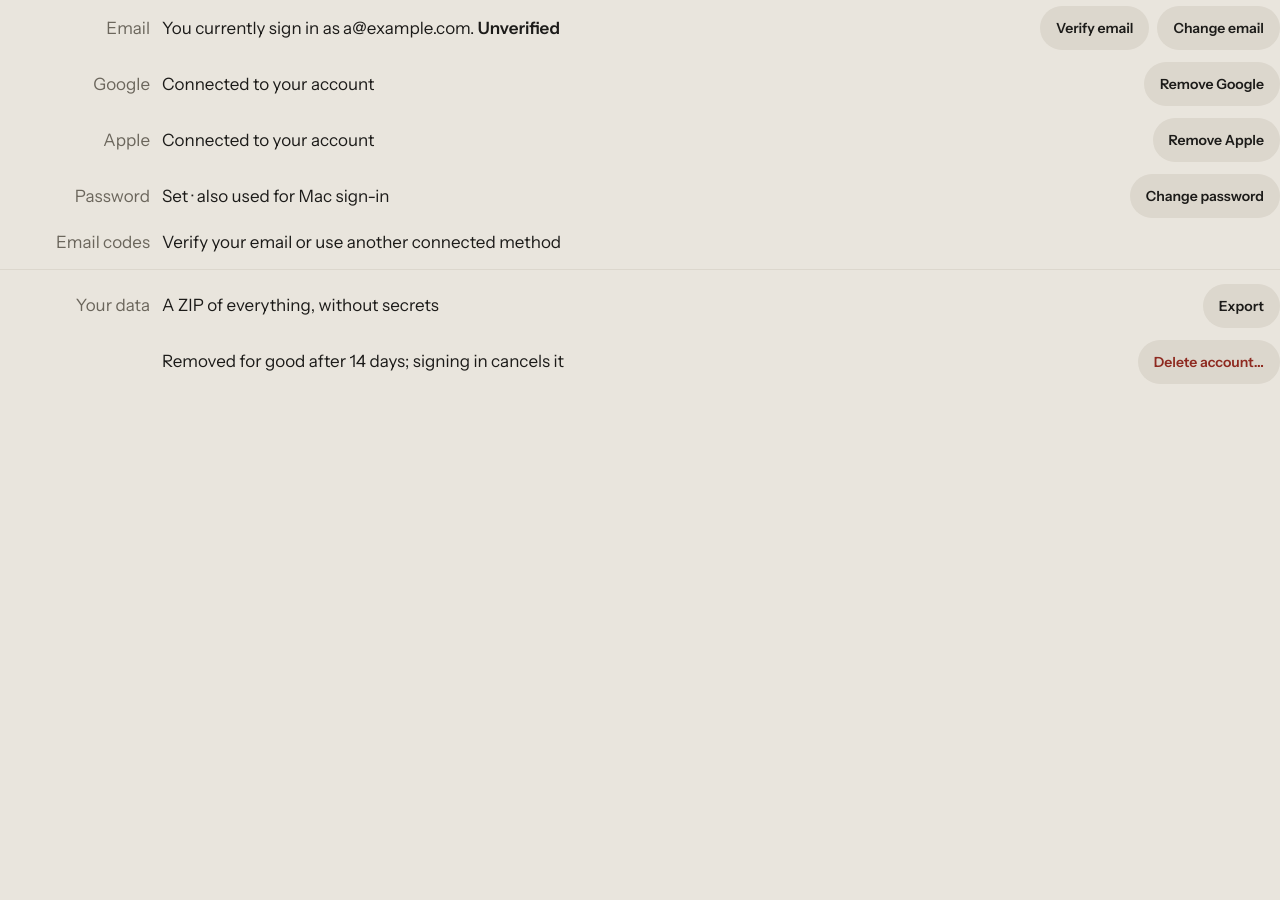
023-FR-006/008/009/011/013/015/016/021 remaining auth failure and recovery journeys › verification can renew recent proof without issuing a second mailbox challenge
Click the button "Verify email": (1095, 28) [1040, 6, 1149, 50]
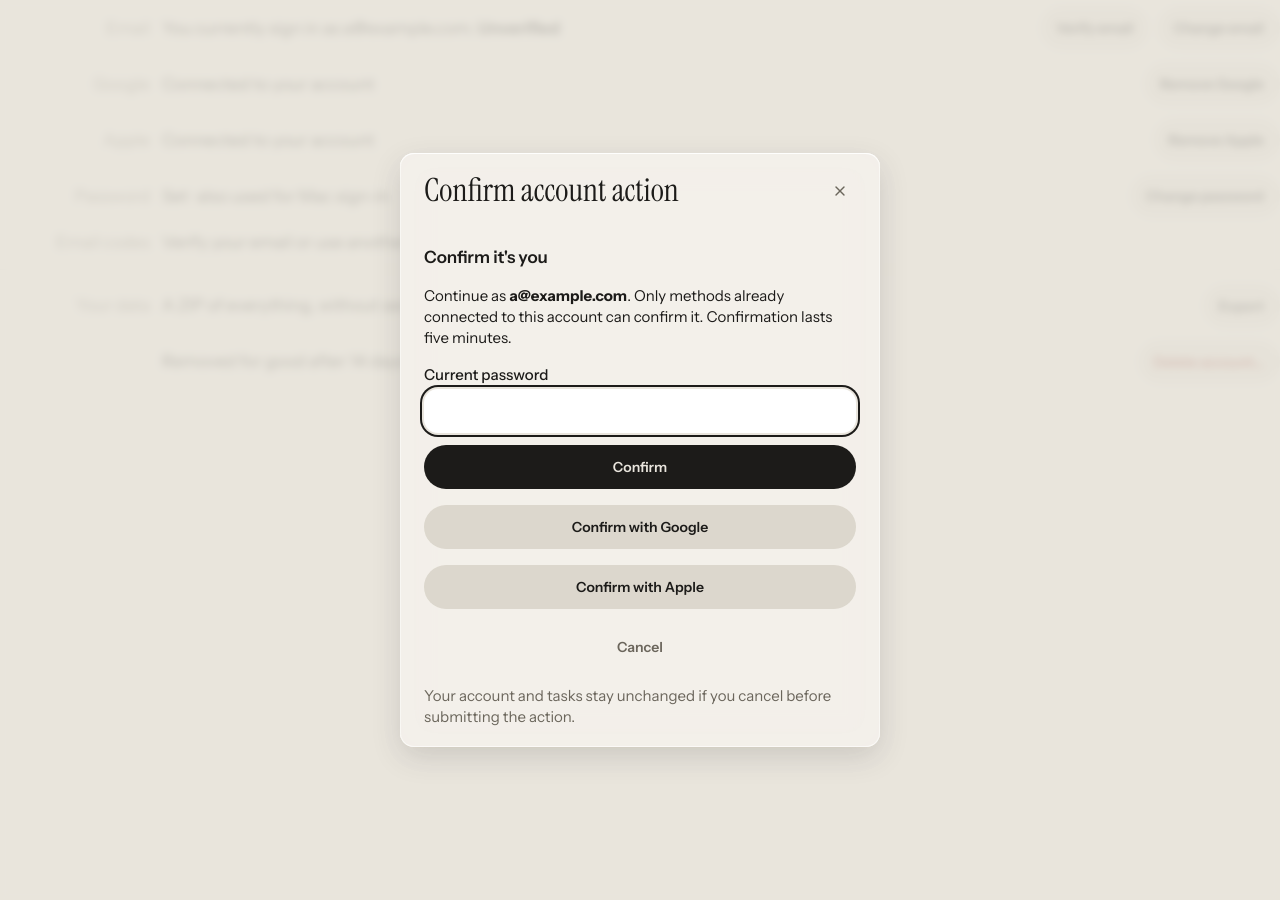
In the password field labelled "Current password": (640, 411) [424, 389, 856, 433], type "private-password"
Click the button "Confirm": (640, 467) [424, 445, 856, 489]
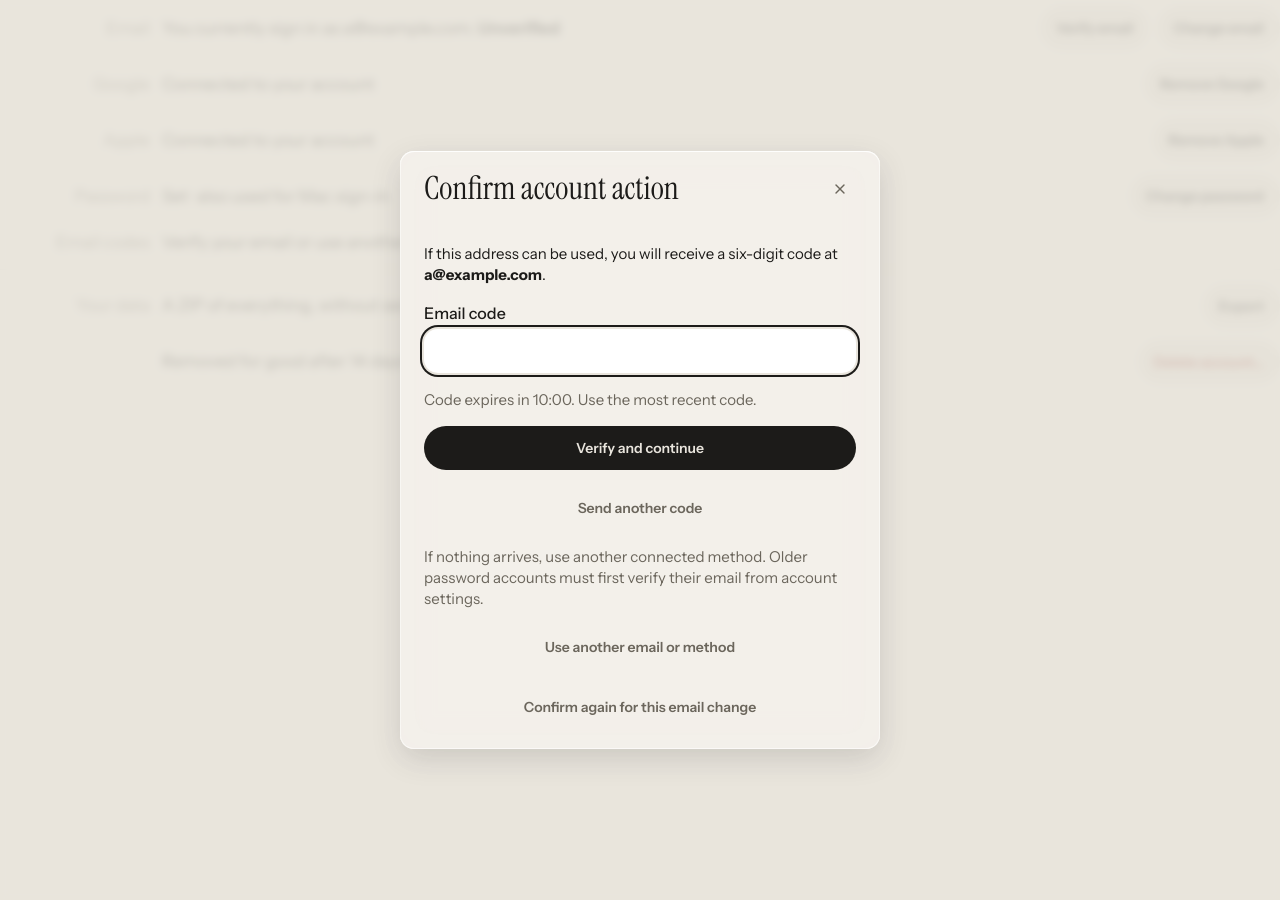
Result: the field labelled "Email code" is shown at [424, 329, 856, 373]
Click the button "Confirm again for this email change": (640, 707) [424, 685, 856, 729]
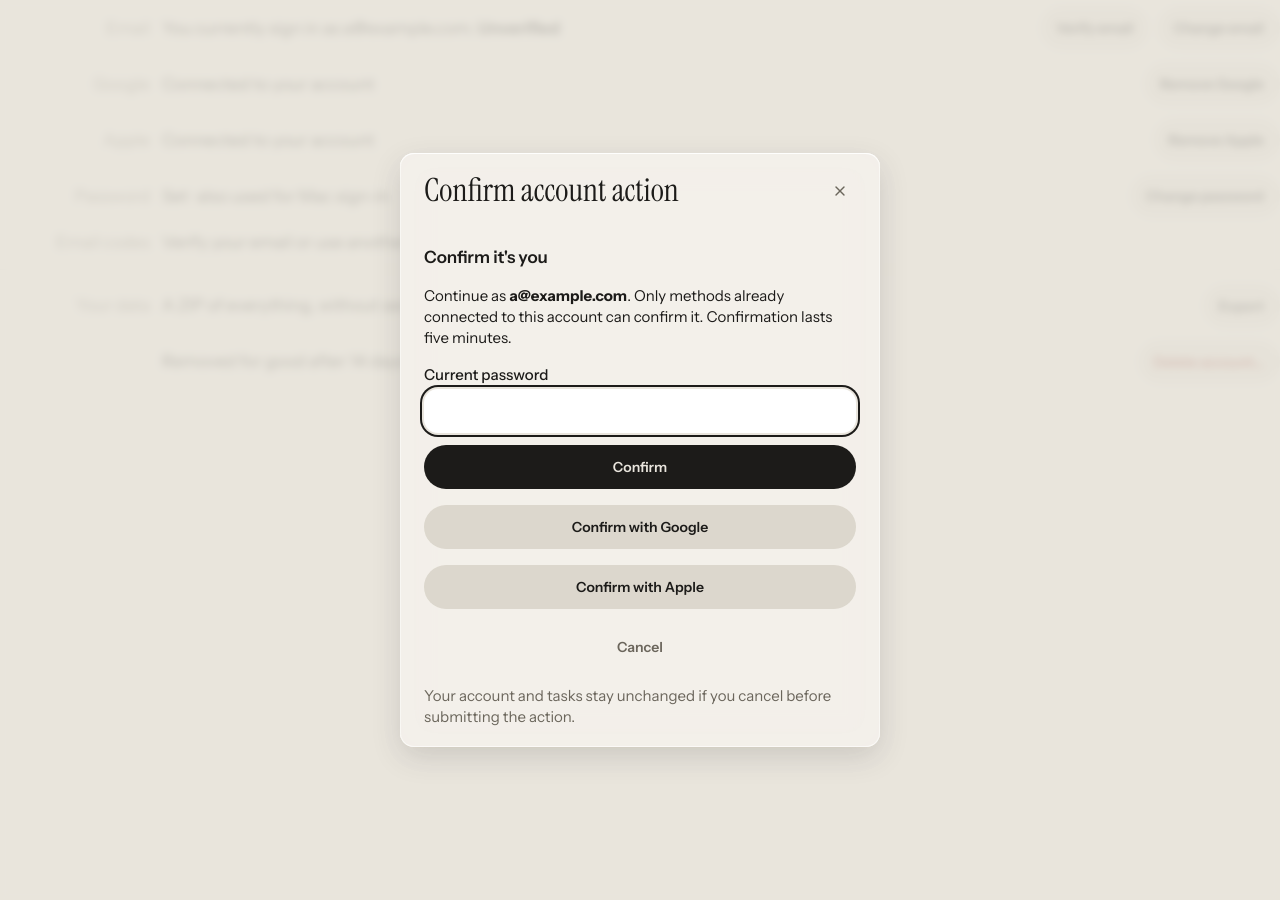
In the password field labelled "Current password": (640, 411) [424, 389, 856, 433], type "private-password"
Click the button "Confirm": (640, 467) [424, 445, 856, 489]
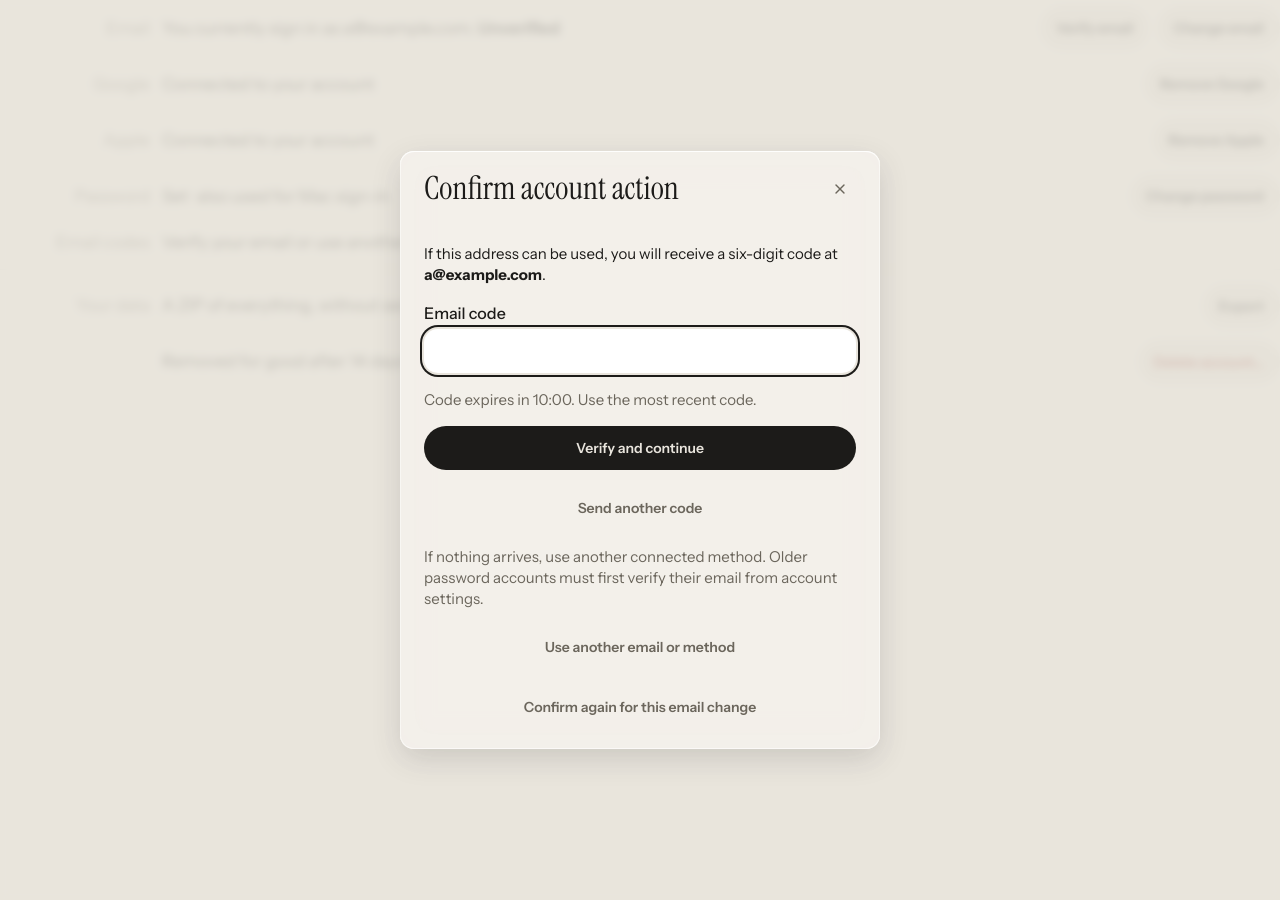
Result: the field labelled "Email code" is shown
In the field labelled "Email code": (640, 351) [424, 329, 856, 373], type "123456"
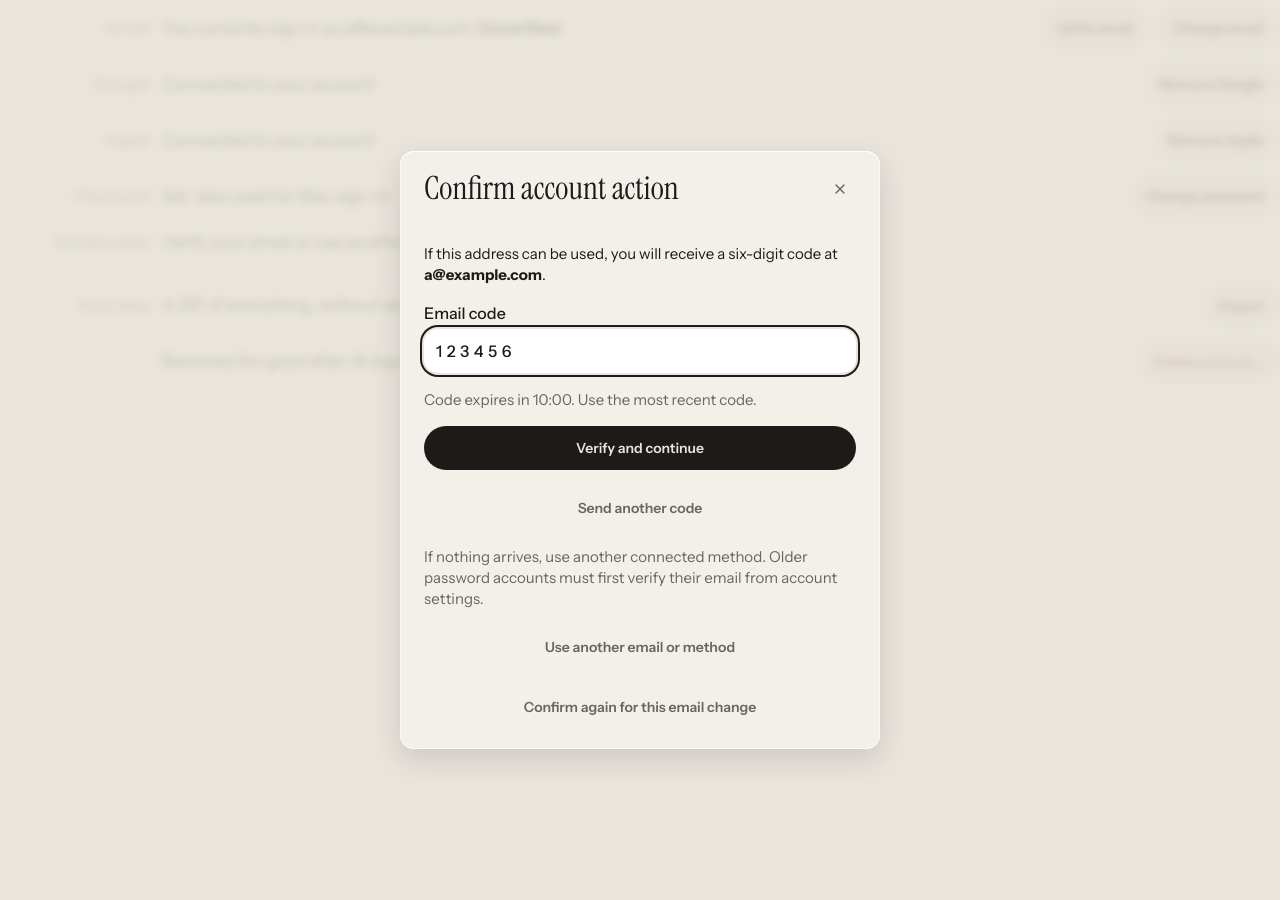
Submit the form labelled "Email code", box [424, 301, 856, 470]
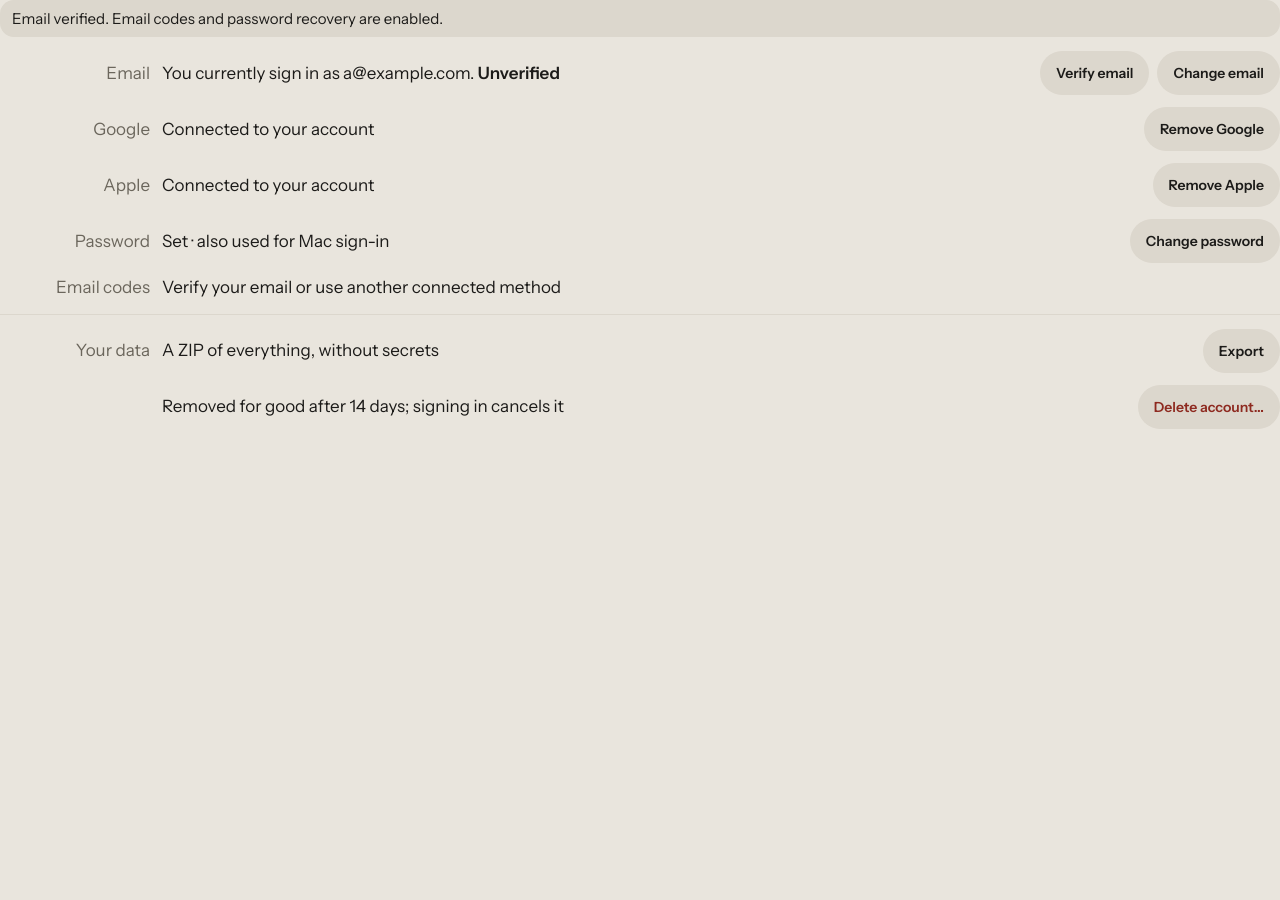
Result: the message shows "Email verified" at [12, 9, 443, 28]
